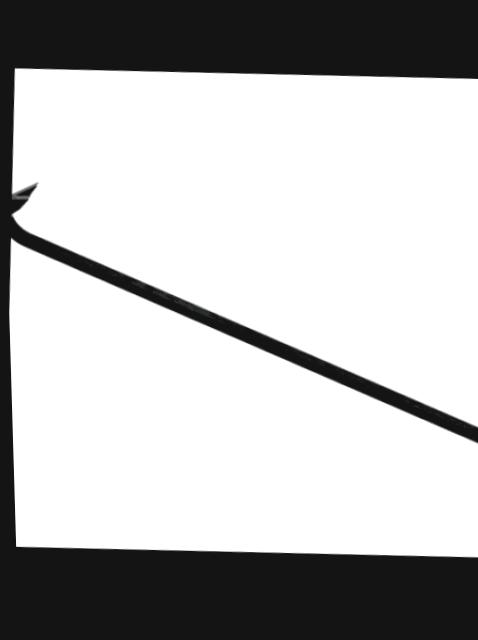crow bar: (9, 179, 478, 456)
